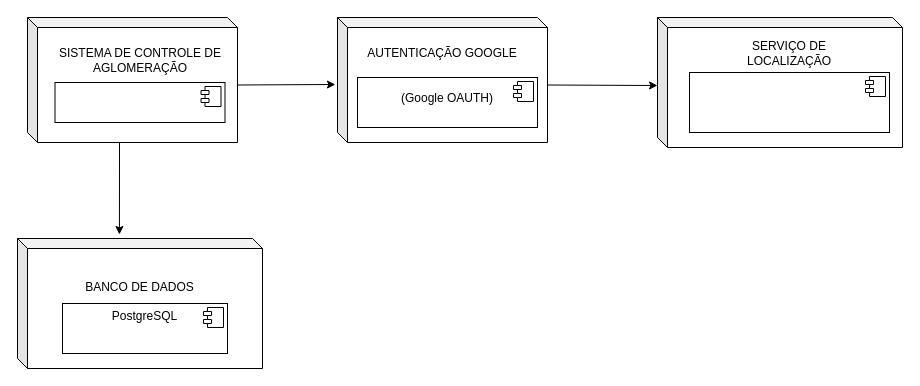
Image size: 920x386. Some labels were removed from this diagram. The centre of each missing label's shape, as x and y in pixels:
"API(Geolocation) Mapas" belongs at pixel 789 102.
"React" belongs at pixel 139 102.
